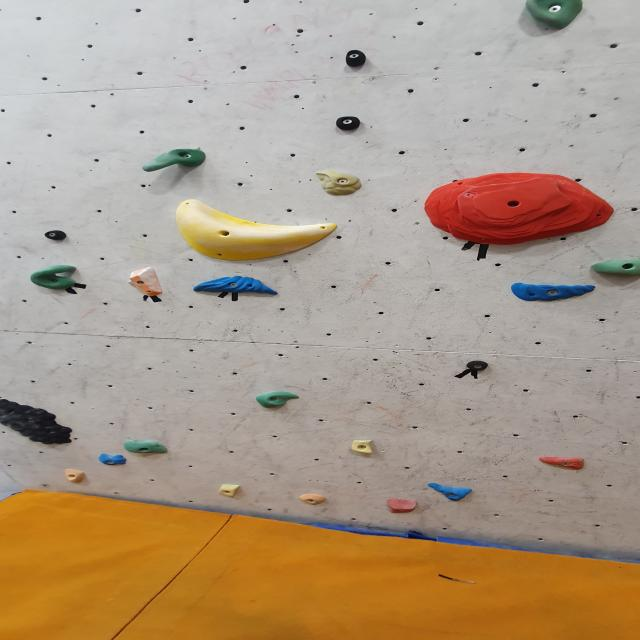Crimp: (422, 175, 622, 252), (190, 277, 282, 296), (509, 283, 603, 301), (315, 170, 366, 197), (535, 455, 591, 470), (426, 486, 474, 501), (345, 440, 378, 457), (97, 454, 128, 467), (298, 492, 327, 505)
Jug: (0, 400, 77, 447), (520, 0, 586, 29), (138, 149, 210, 173), (30, 265, 82, 293), (590, 260, 638, 280), (254, 390, 303, 409), (121, 440, 171, 458)
Pinch: (130, 265, 174, 299), (343, 51, 370, 70), (334, 115, 364, 131), (62, 467, 86, 484), (43, 229, 71, 242), (463, 359, 491, 371)
Sloper: (171, 201, 340, 265), (384, 498, 419, 514), (216, 484, 242, 500)
